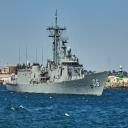Fragata: (6, 5, 112, 98)
